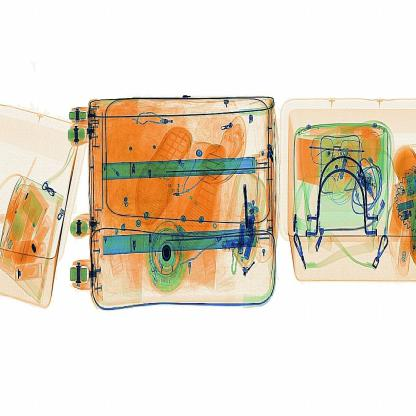knife: (236, 178, 262, 230)
